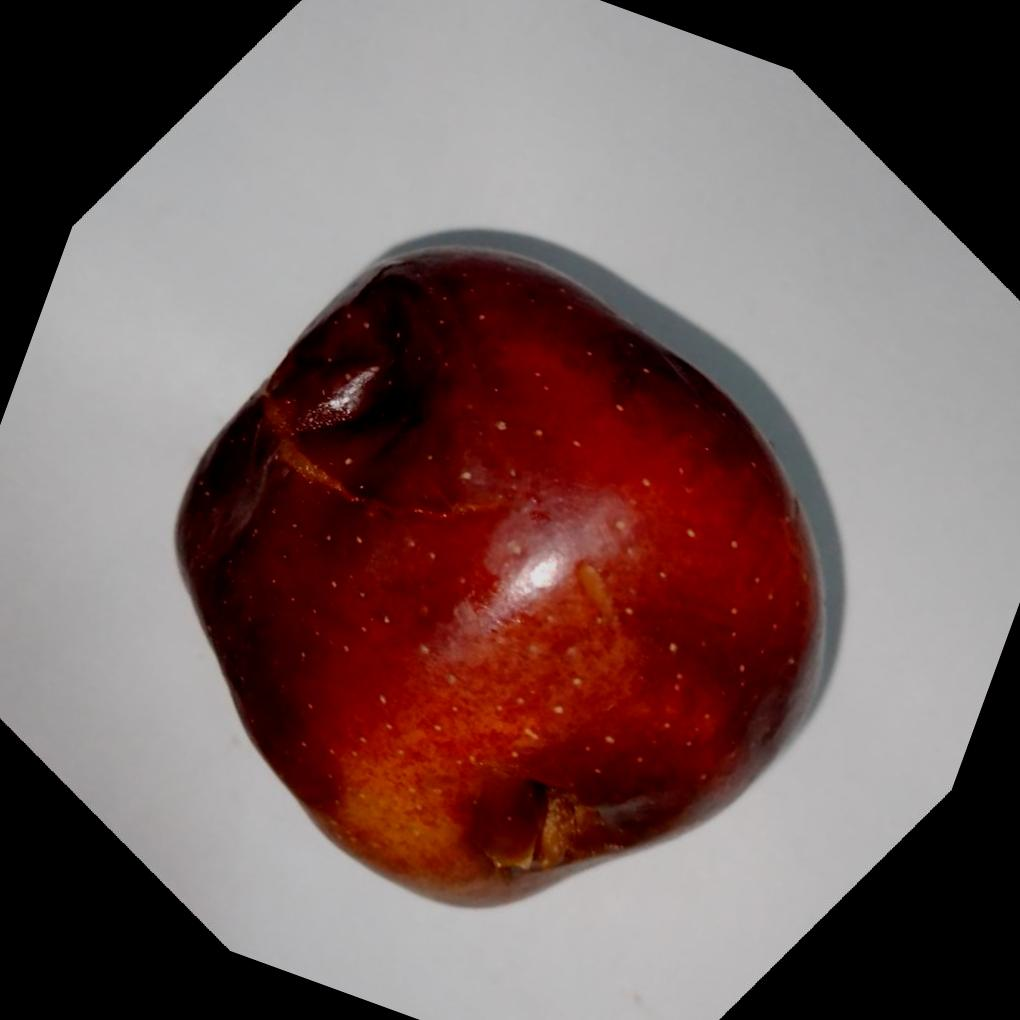FreshOrange: (169, 224, 844, 908)
